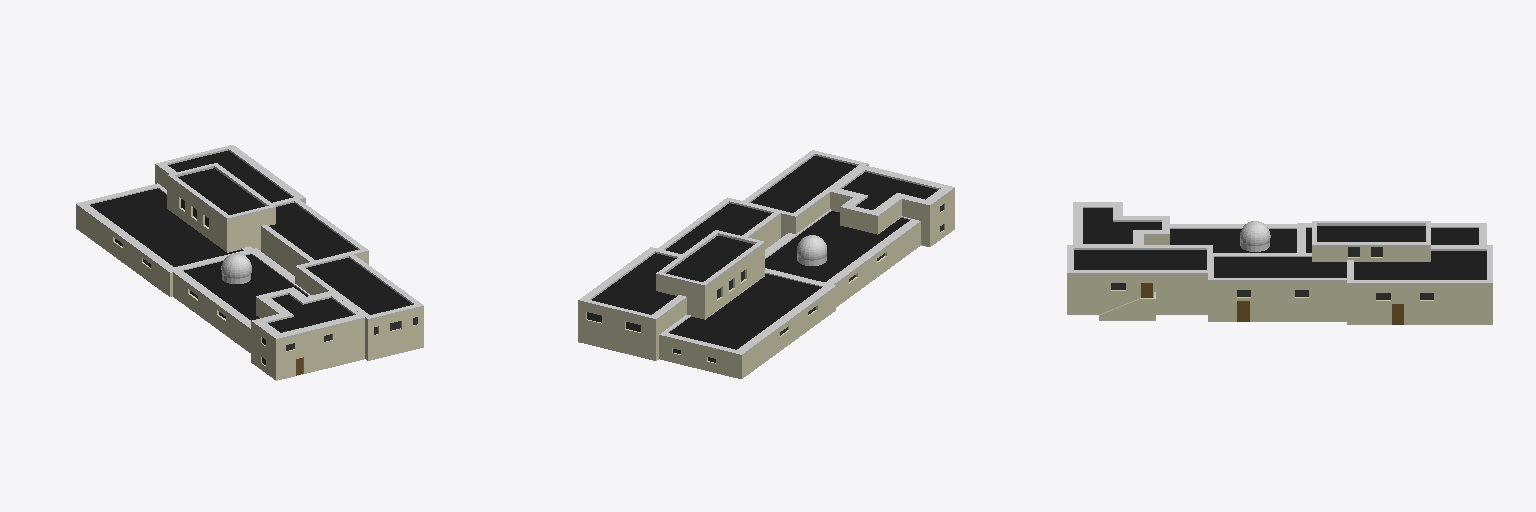
The model's file is house2.obj.
The picture shows the model from 3 angles: view 1: azimuth 30°, elevation 25°; view 2: azimuth 150°, elevation 25°; view 3: azimuth 270°, elevation 25°; orthographic projection.
Parts seen in each view (by area): view 1: unnamed_object1; view 2: unnamed_object1; view 3: unnamed_object1.
Boxes of the visible parts, <box> form: unnamed_object1: <box>76,145,423,380</box>; unnamed_object1: <box>578,150,954,378</box>; unnamed_object1: <box>1067,202,1492,324</box>.
Bounding box in the file's own units: 14.41 × 4.79 × 31.79.